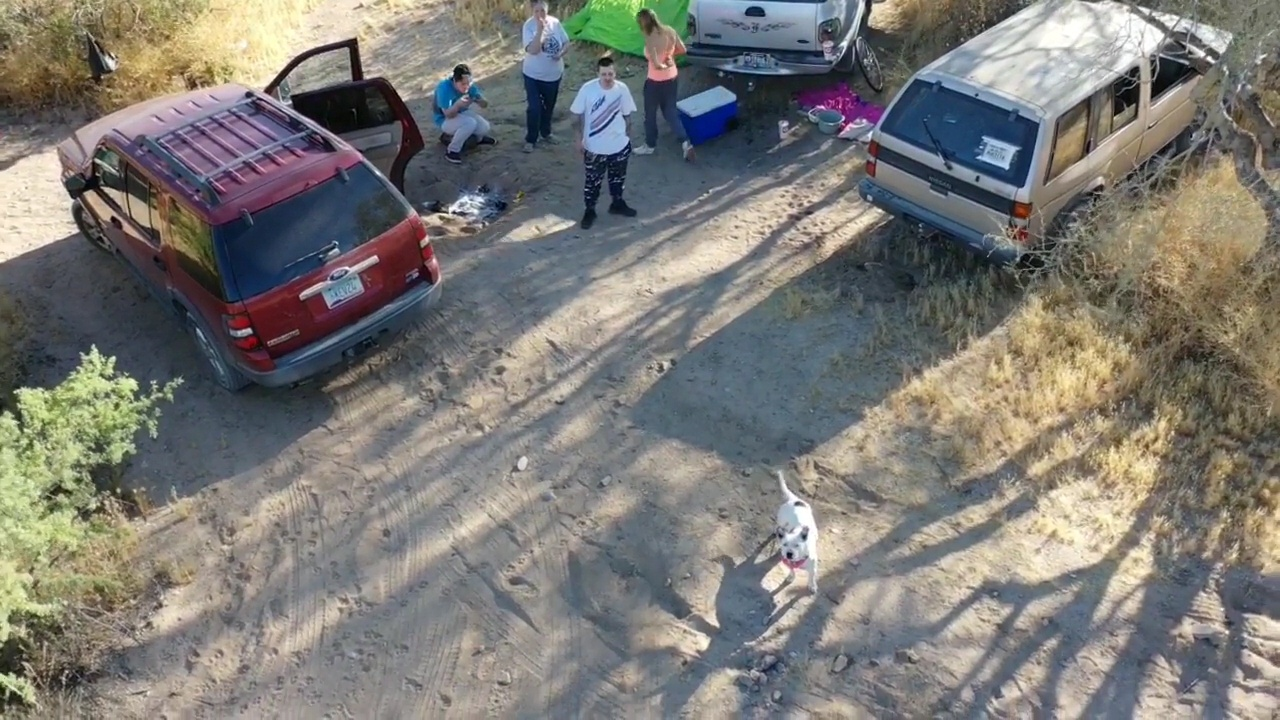araba: (51, 78, 448, 398), (855, 1, 1239, 284)
insan: (568, 54, 640, 231), (634, 8, 696, 165), (516, 1, 562, 151), (433, 62, 484, 165)
